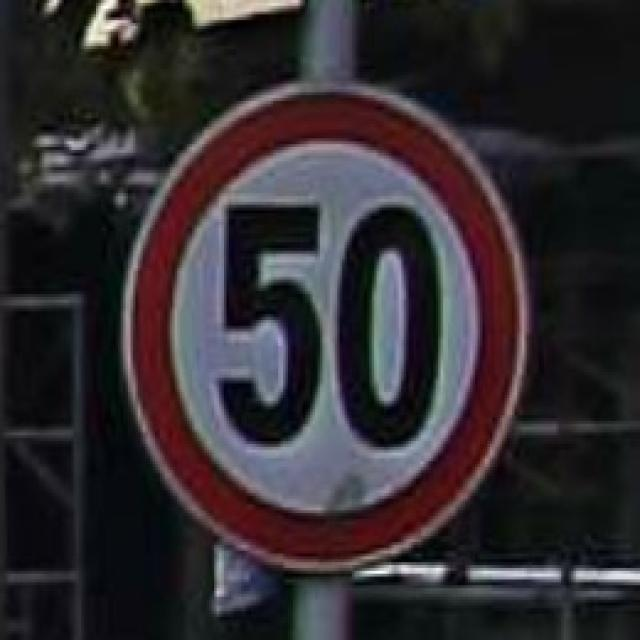Speed Limit -30-: (212, 195, 445, 452)
